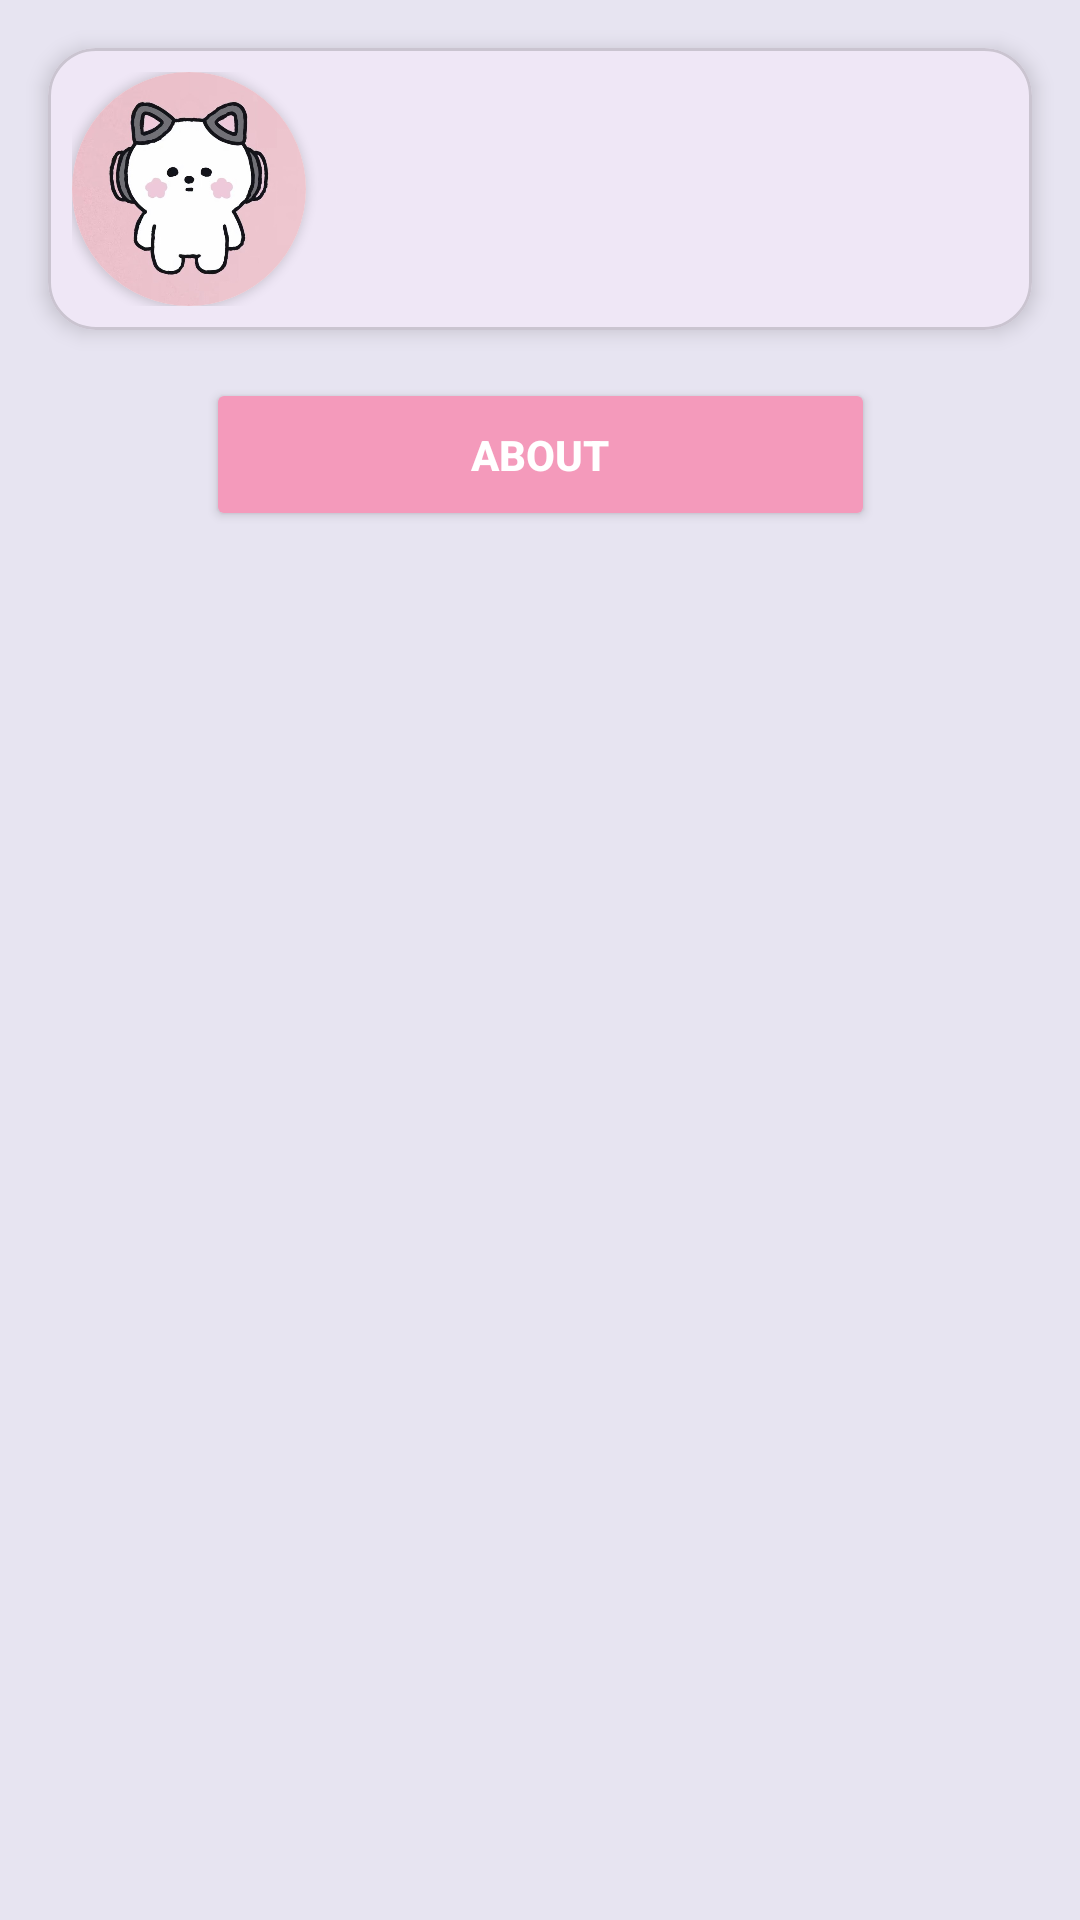

Named icons in this screenshot (1080*1920) and their centers, point (x, y):
profil anon: point (189, 189)
